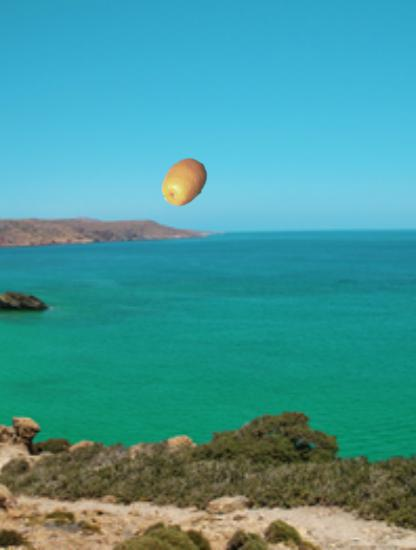Kumquats: (158, 156, 210, 208)
